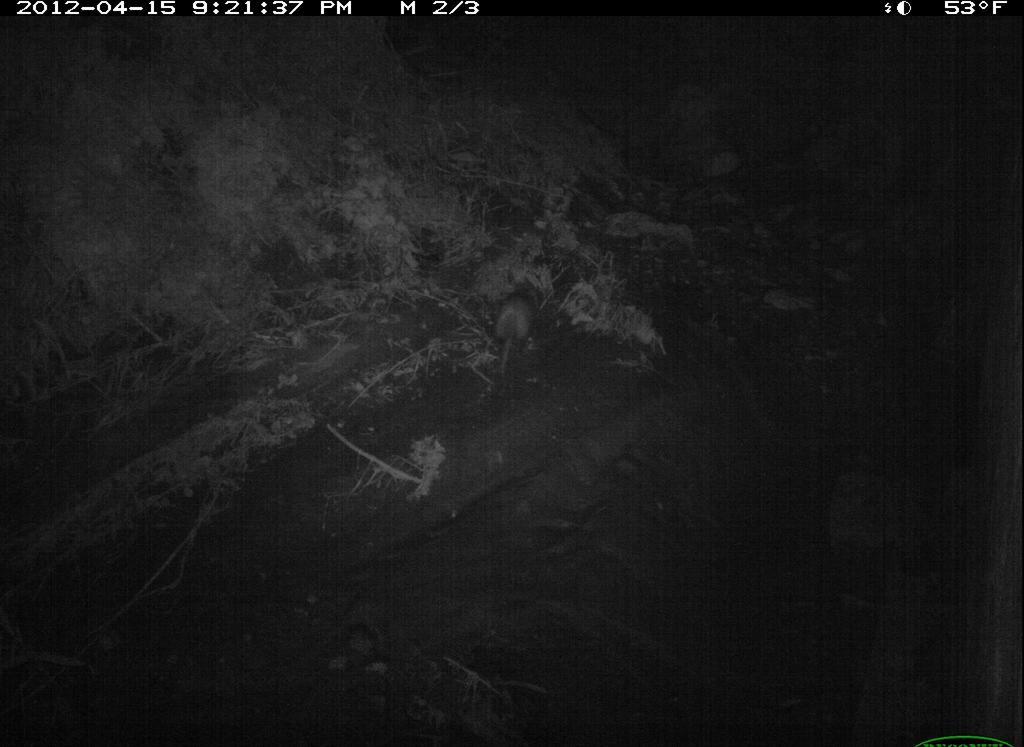opossum: (483, 274, 546, 392)
